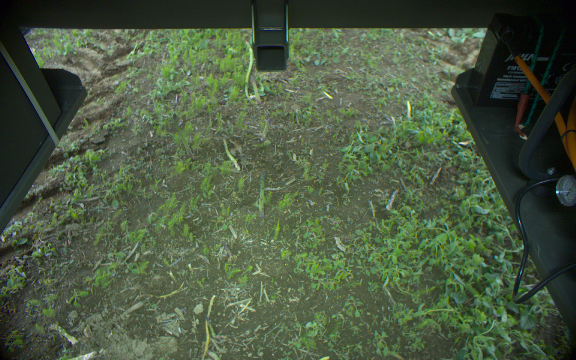aspa: (170, 111, 194, 164), (240, 38, 254, 103), (217, 135, 241, 172), (255, 167, 270, 221), (248, 62, 261, 107)
